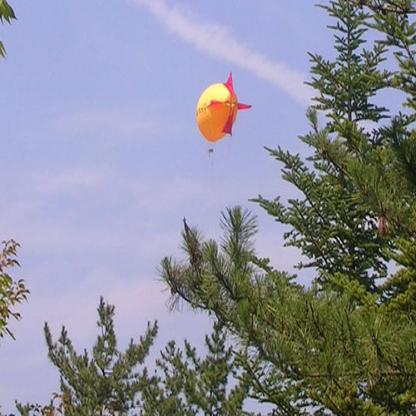Airship: (193, 71, 252, 162)
